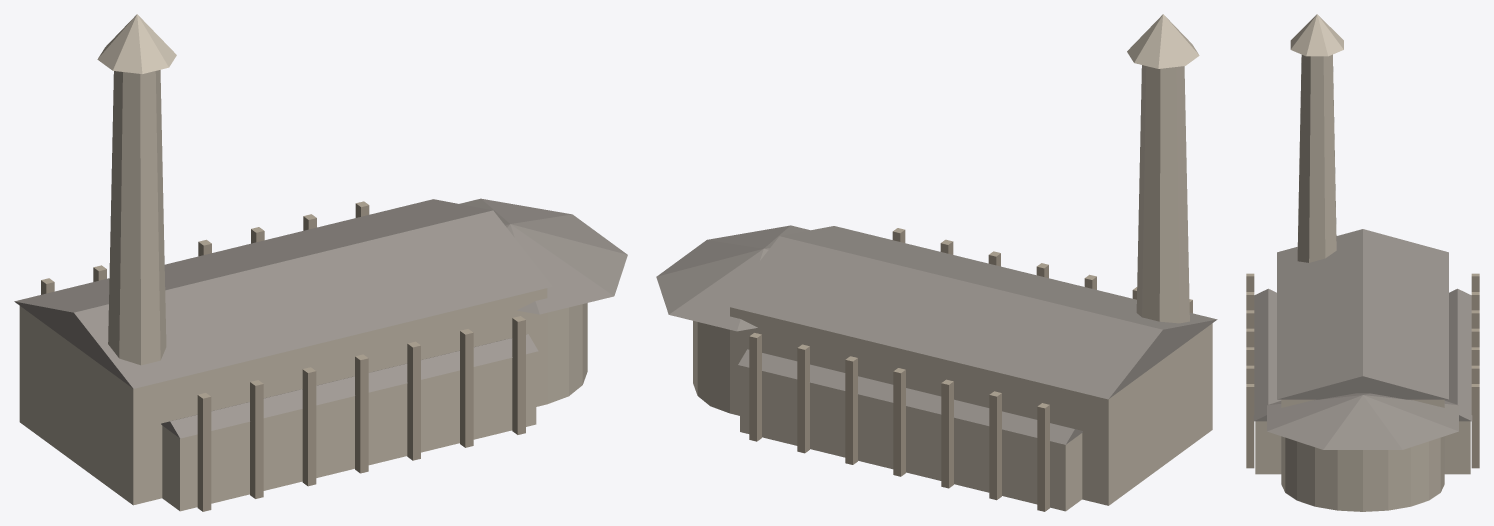
The model's file is catedraloviedo.glb.
3 renders of one model, left to right at view 1: azimuth 30°, elevation 25°; view 2: azimuth 150°, elevation 25°; view 3: azimuth 270°, elevation 25°, orthographic. The views are drawn at different scales.
Bounding box in the file's own units: 102 × 86 × 54.2.
